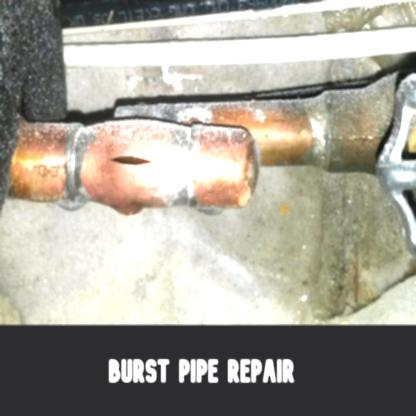burst: (108, 155, 155, 177)
